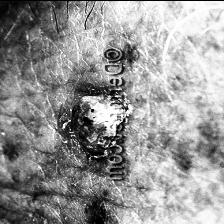Potentially Malignant Skin Tumors: (69, 93, 129, 155)
